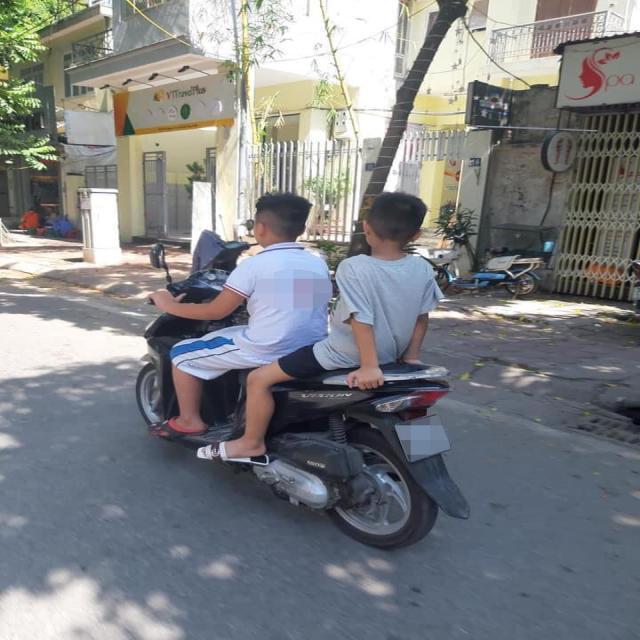no_helmet: (352, 184, 436, 265), (244, 187, 319, 254)
